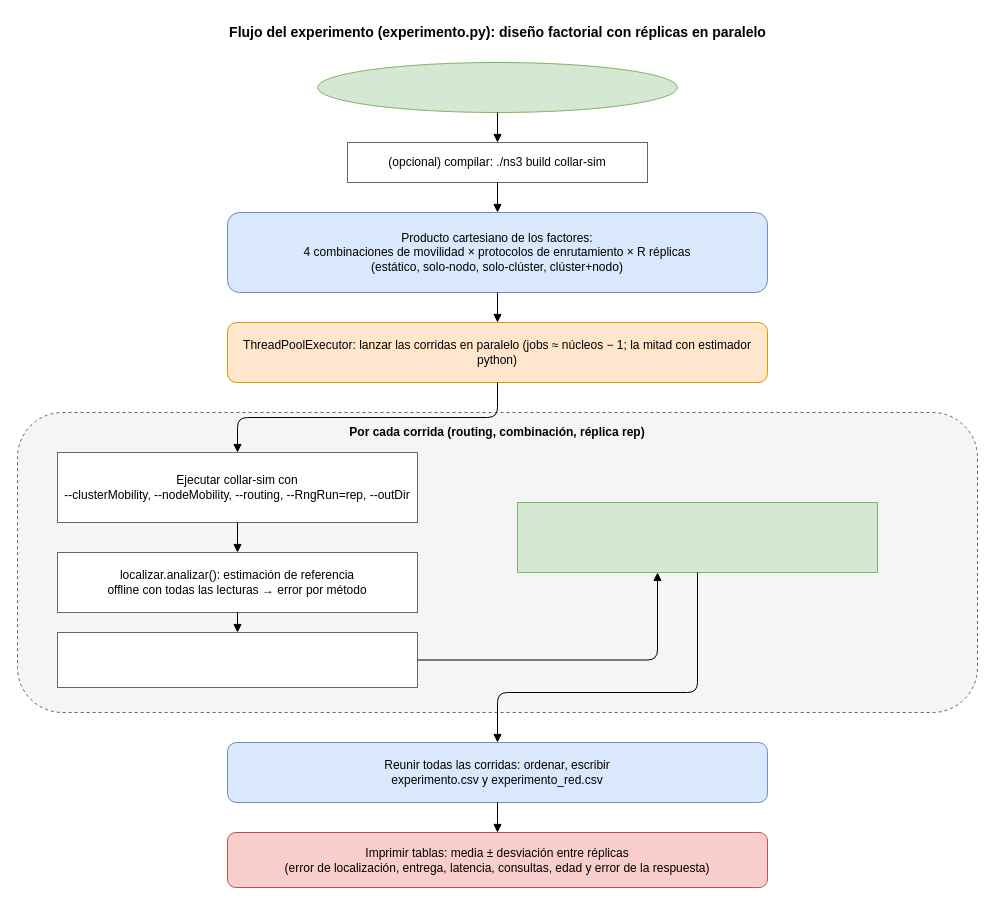
Some shapes in this 995 by 905 pixel diagram are drawn without their labels. The shapes that lost their labels are listed below. From the top down, each one's centre as x and y in pixels, then its label:
point (497, 87): python experimento.py --nombre ... --reps R --routing ...
point (697, 537): Filas de resultados (una por corrida y método / una por corrida)
point (237, 660): red.resumir_red(): entrega, latencia y consultas a través de la MANET
